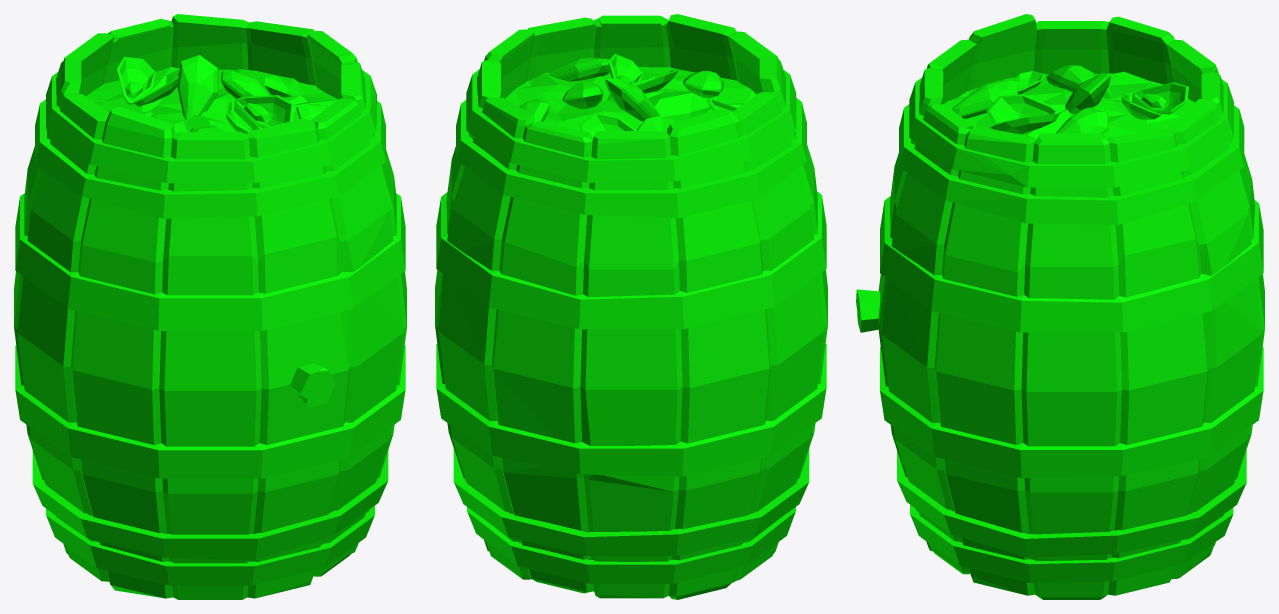
File: SM_Barrel_Wood_B_Mussels_Fantasy.fbx
The picture shows the model from 3 angles, left to right: view 1: azimuth 30°, elevation 25°; view 2: azimuth 150°, elevation 25°; view 3: azimuth 270°, elevation 25°; orthographic projection.
Parts seen in each view (by area): view 1: barrel-wood-b-mussels-fantasy; view 2: barrel-wood-b-mussels-fantasy; view 3: barrel-wood-b-mussels-fantasy.
Boxes of the visible parts, box(x1,y1,x2,y2) form: barrel-wood-b-mussels-fantasy: box(14, 14, 406, 599); barrel-wood-b-mussels-fantasy: box(435, 14, 827, 599); barrel-wood-b-mussels-fantasy: box(856, 14, 1264, 599).
Bounding box in the file's own units: 0.9461 × 1.27 × 1.
